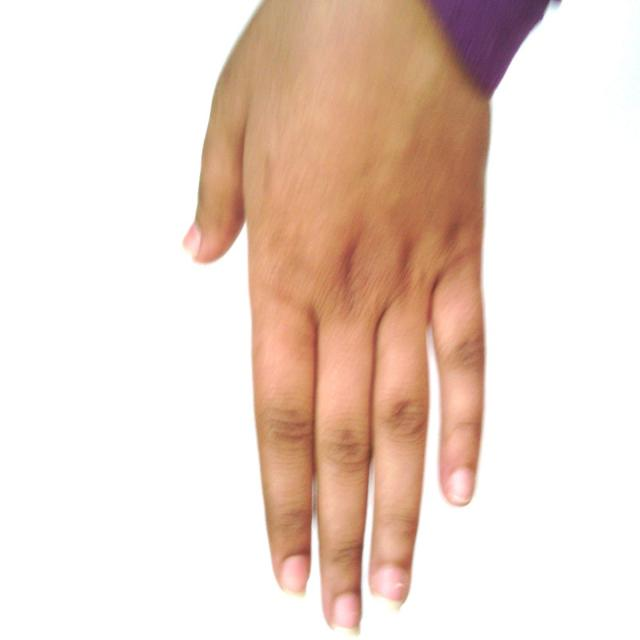others: (112, 2, 562, 633)
